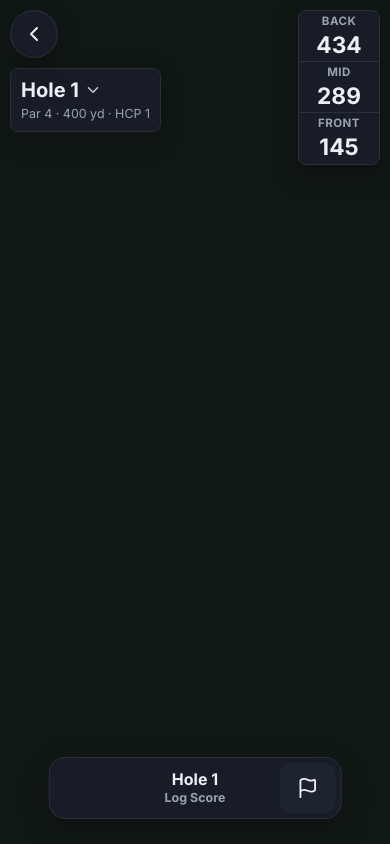
Test: LiveRoundSessionClient autosave navigation › keeps location warm on the score step and never sends coordinates in API payloads
Click the button "Hole 1 Log Score" at (195, 788), box [116,763,274,813]
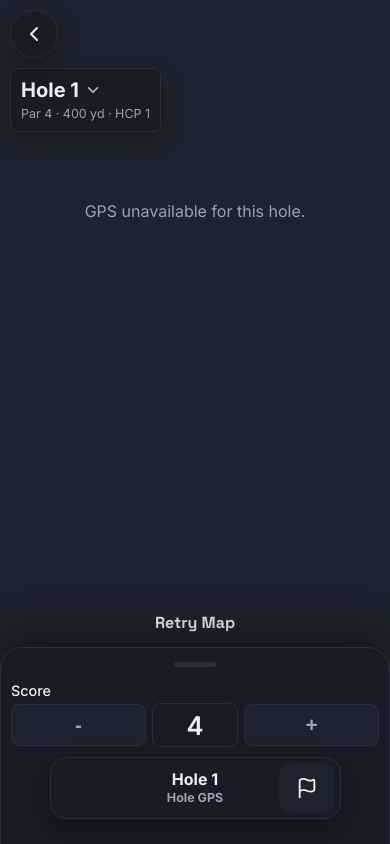
Expected: the button "Hole 1 Hole GPS" is shown, [116,763,274,813]
